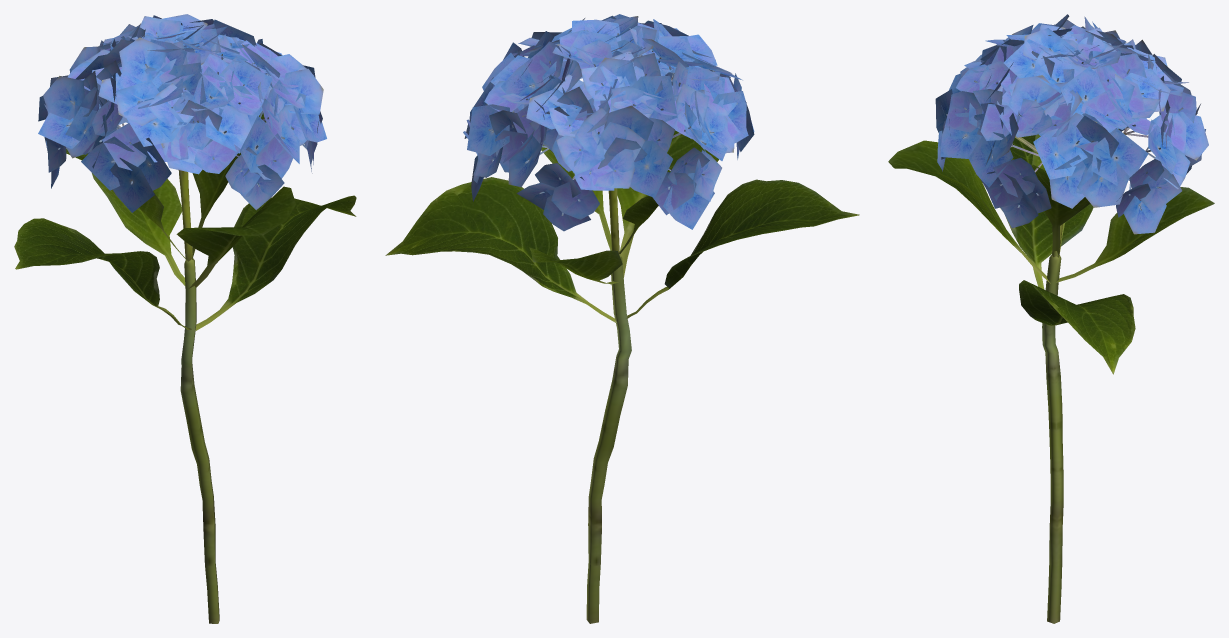
Rendered from Hydrangea OG SHORT DEEP BLUE.glb.
3 renders of one model, left to right at view 1: azimuth 30°, elevation 25°; view 2: azimuth 150°, elevation 25°; view 3: azimuth 270°, elevation 25°, orthographic. The views are drawn at different scales.
Parts seen in each view (by area): view 1: Hydrangea; view 2: Hydrangea; view 3: Hydrangea.
Boxes of the visible parts, x1=… form: Hydrangea: x1=14, y1=14, x2=356, y2=623; Hydrangea: x1=385, y1=14, x2=859, y2=623; Hydrangea: x1=888, y1=14, x2=1214, y2=623.
Bounding box in the file's own units: 1.38 × 1.94 × 1.
Materials: 1 (1 with a texture image).
